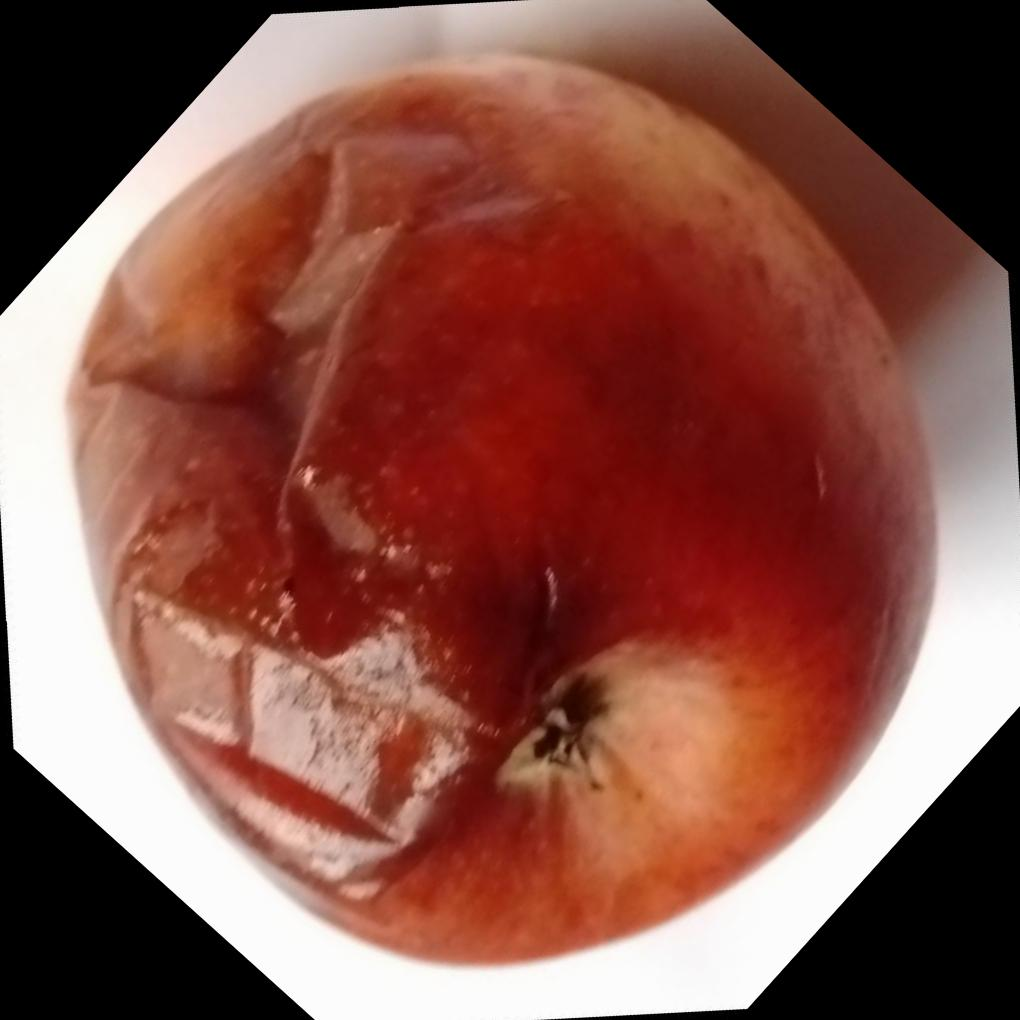FreshOrange: (51, 42, 940, 970)
